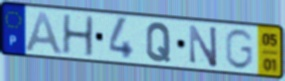4: (107, 15, 136, 63)
A: (23, 10, 66, 57)
G: (223, 28, 256, 72)
H: (60, 13, 95, 59)
N: (187, 23, 219, 70)
Q: (144, 21, 172, 64)
